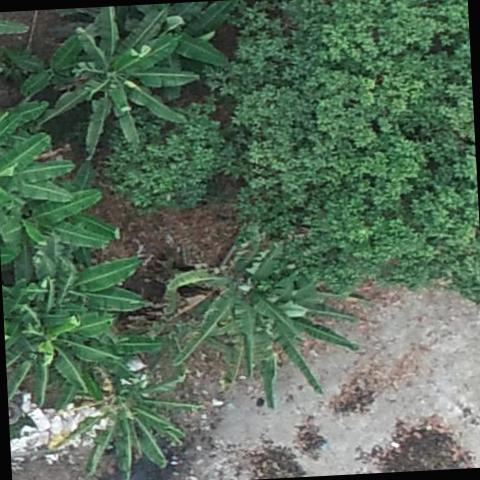Banana-plant: (186, 238, 362, 398), (46, 12, 199, 148), (54, 363, 204, 480), (0, 154, 127, 273), (12, 288, 125, 404), (4, 29, 94, 108)
